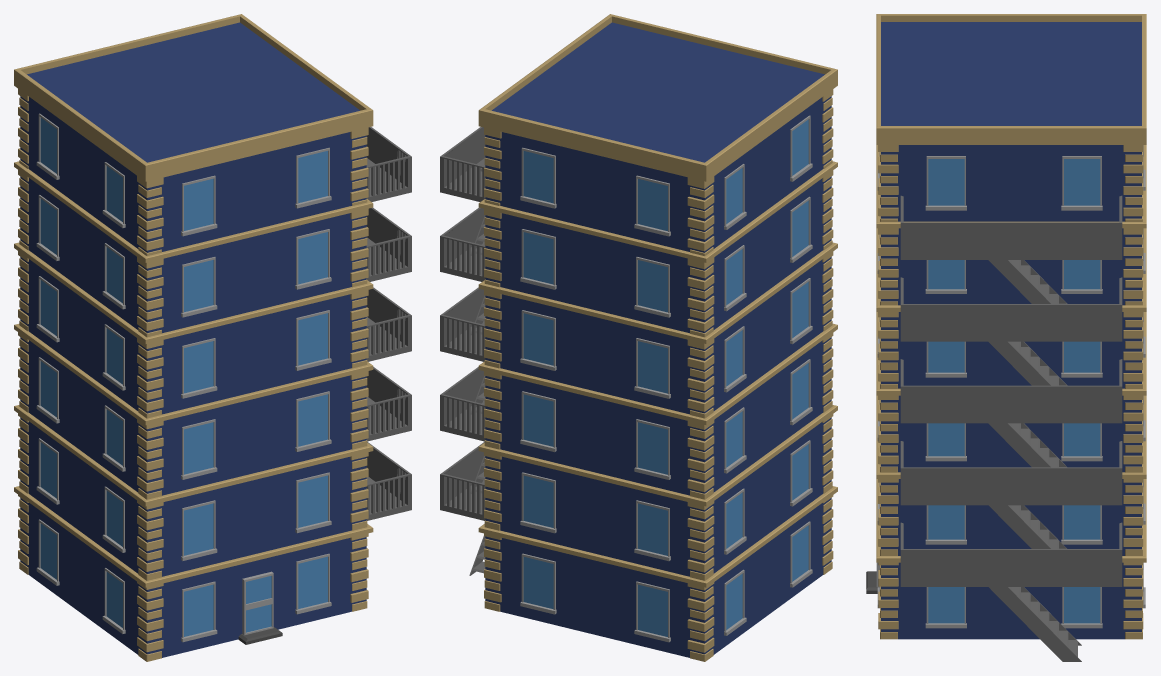
Rendered from GebouwBlauw.fbx.
3 renders of one model, left to right at view 1: azimuth 30°, elevation 25°; view 2: azimuth 150°, elevation 25°; view 3: azimuth 270°, elevation 25°, orthographic. The views are drawn at different scales.
Visible parts, largest first — view 1: gebouwBlauw; view 2: gebouwBlauw; view 3: gebouwBlauw.
Boxes of the visible parts, box(x1,y1,x2,y2) form: gebouwBlauw: box(14, 14, 411, 661); gebouwBlauw: box(440, 14, 837, 661); gebouwBlauw: box(866, 14, 1146, 661).
Size of the model in its own units: 761 by 1304 by 645.
